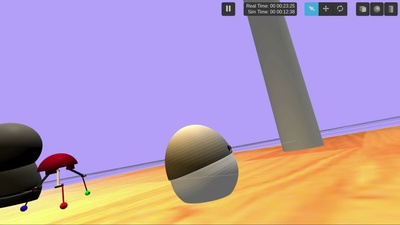mira_robot: (165, 124, 239, 204)
